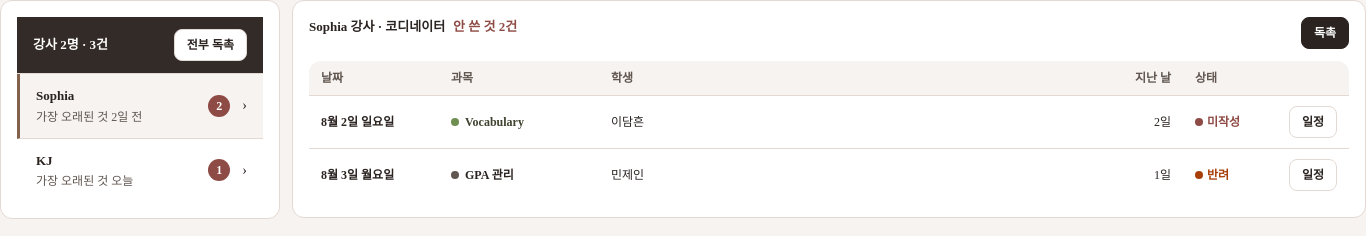
Test: UnwrittenReportBoard › 한 DTO에서 선택 강사의 미작성과 반려를 함께 보여 준다
Expected: the text "안 쓴 것 2건" is shown, [453,17,517,36]
Expected: the text "미작성" is shown, [1195,113,1240,131]
Click the button "KJ 가장 오래된 것 오늘 1 ›".
click(140, 170)  # box [17,138,263,202]
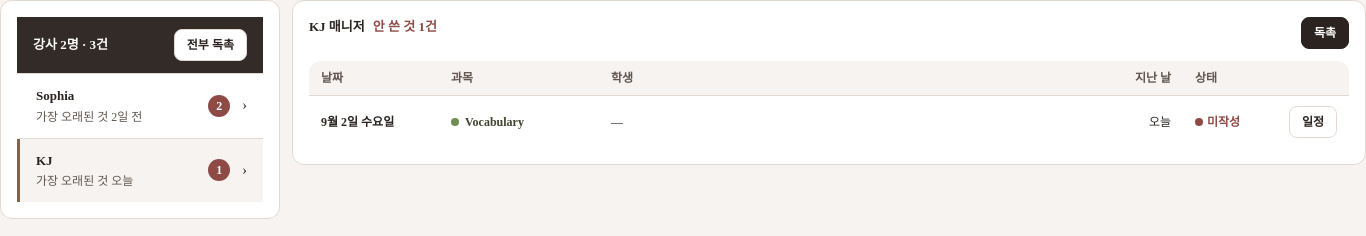
Result: the text "안 쓴 것 1건" is shown at [373,17,437,36]
Result: the text "이담흔" is gone
